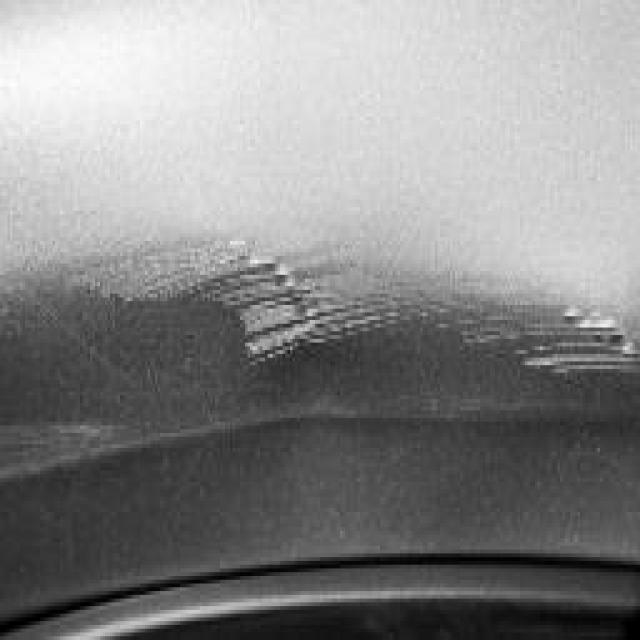Fender: (0, 139, 640, 572)
